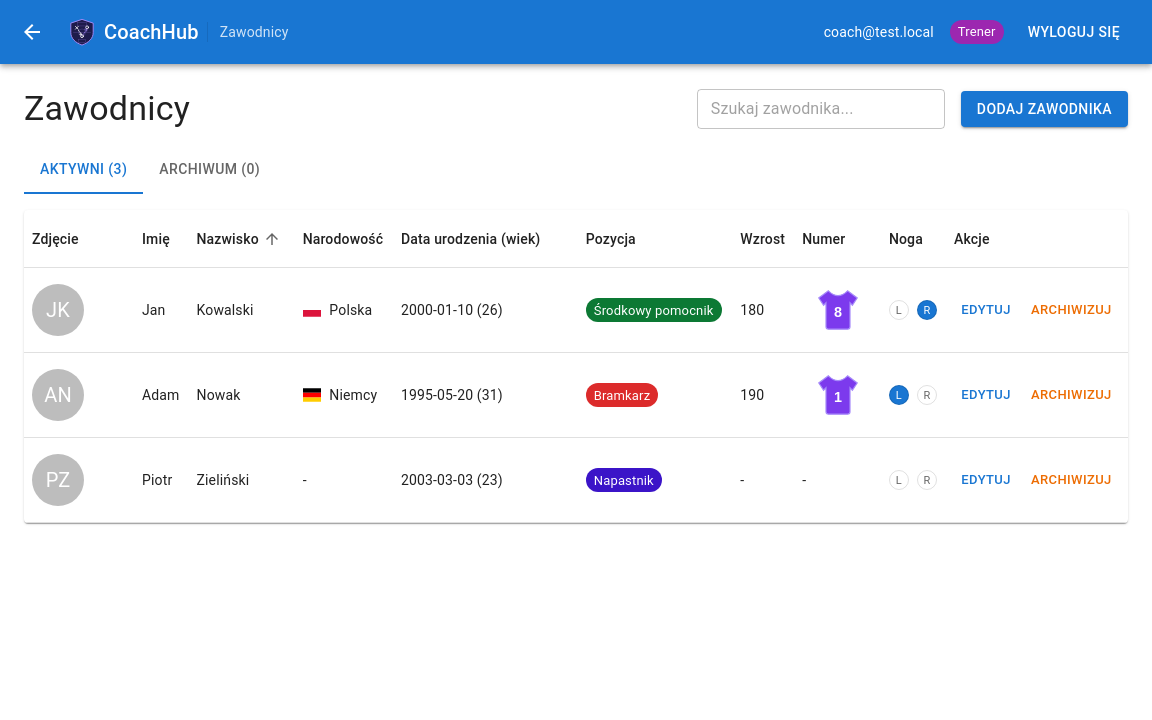
Test: players list › archive tab › says so when the archive is empty
This screenshot has width=1152, height=720.
Expected: the text "Kowalski" is shown, [188,268,295,353]
Click the tab "Archiwum (0)" at (210, 170), box [143,146,276,194]
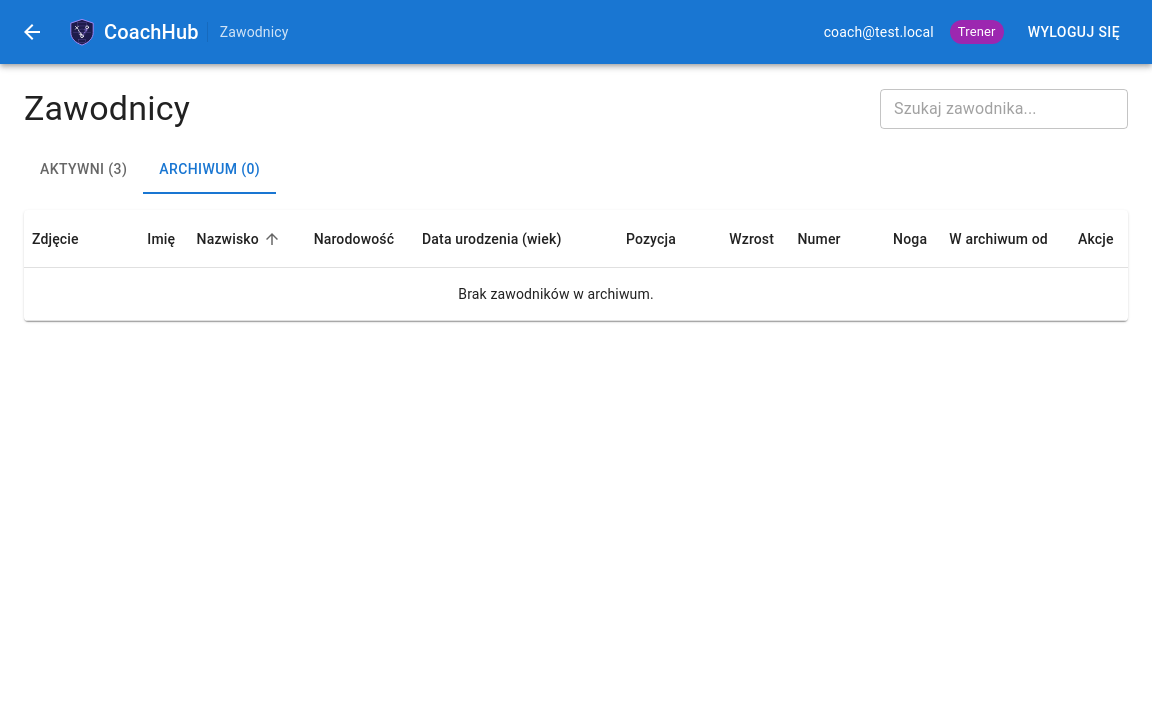
Expected: the text "Brak zawodników w archiwum." is shown, [24,268,1128,321]
